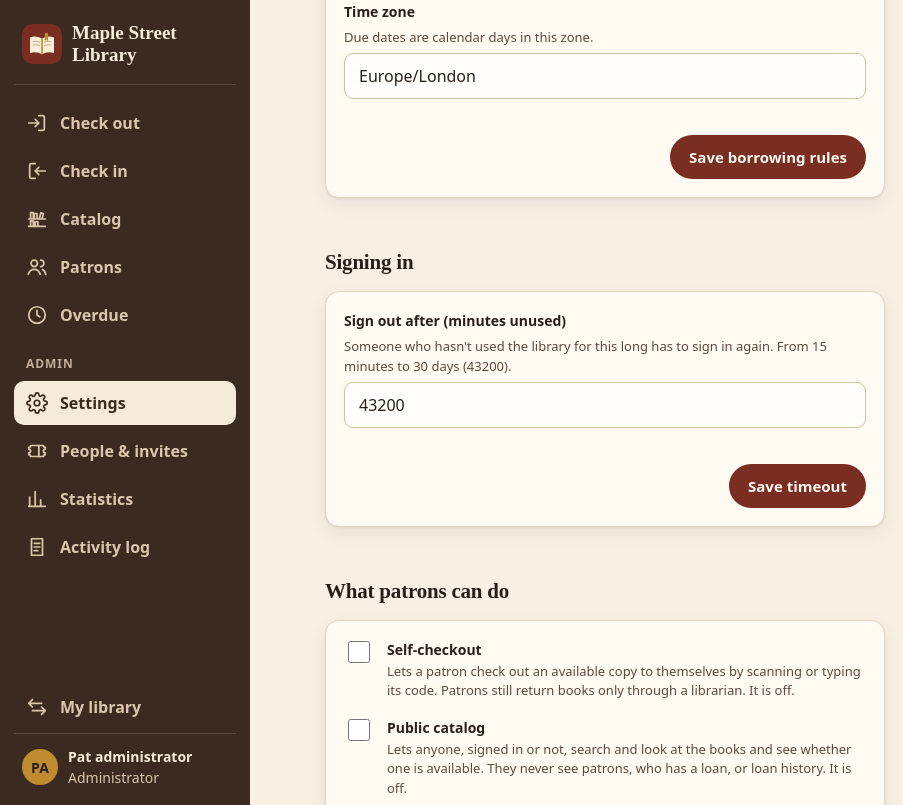
Test: Sign-in timeout › a refusal from the server is said under the field; a non-number is said before sending
(page scrolled)
Replace the text in the field labelled "Sign out after (minutes unused)" with "soon" at (605, 405), box [344,382,866,428]
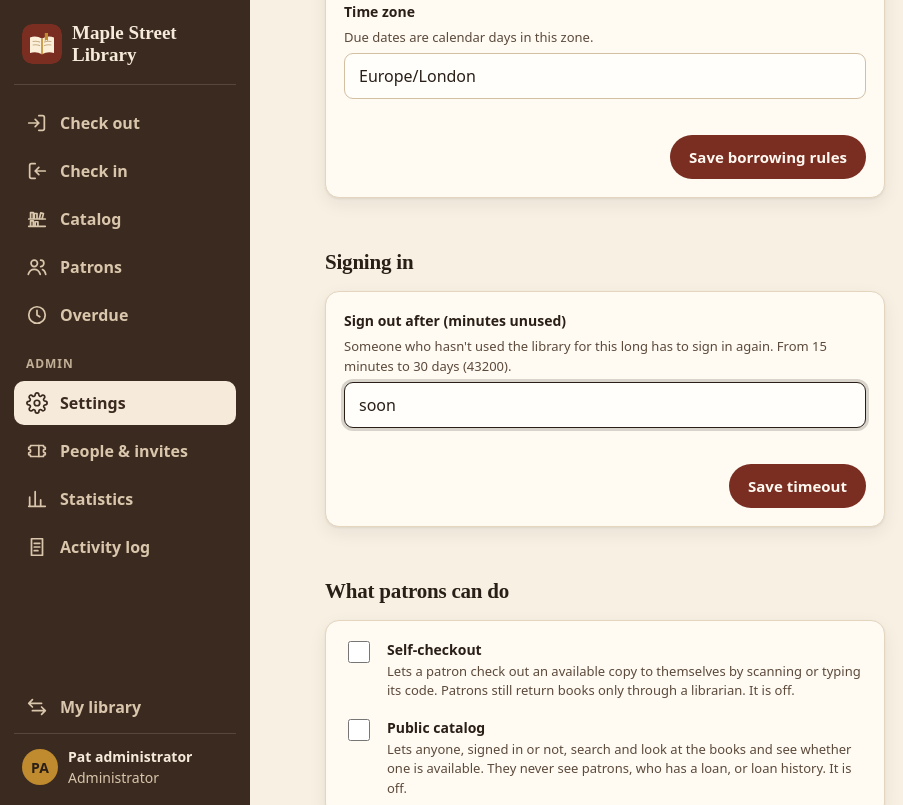
Click the button "Save timeout" at (798, 486), box [729,464,866,508]
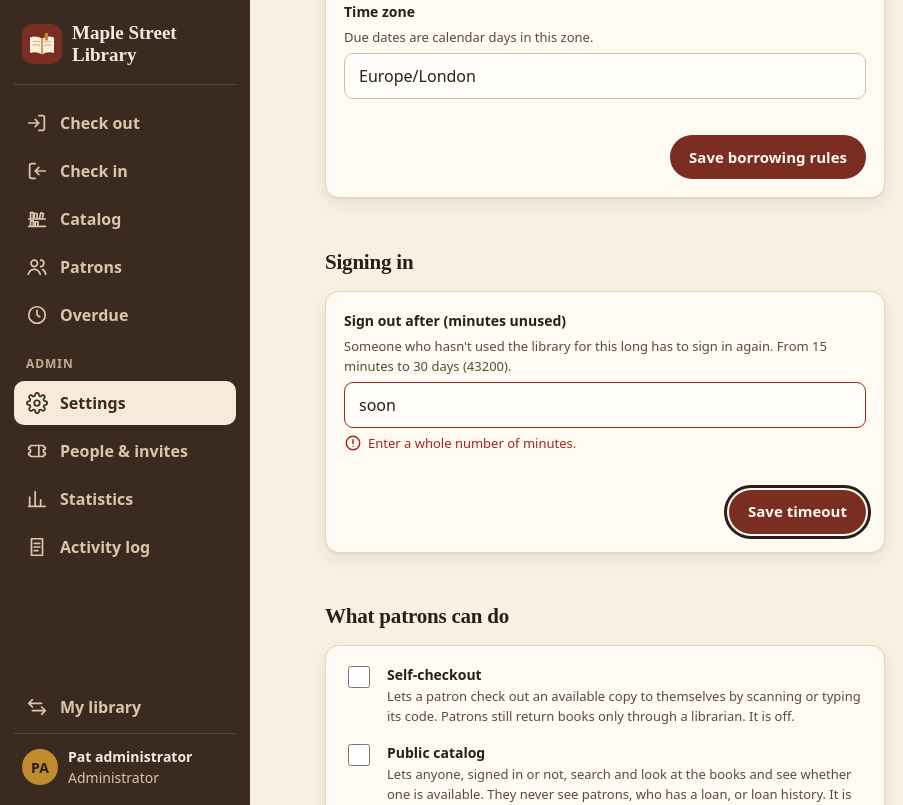
Now the text "Enter a whole number of minutes." is shown, box [344,434,576,452]
Replace the text in the field labelled "Sign out after (minutes unused)" with "5" at (605, 405), box [344,382,866,428]
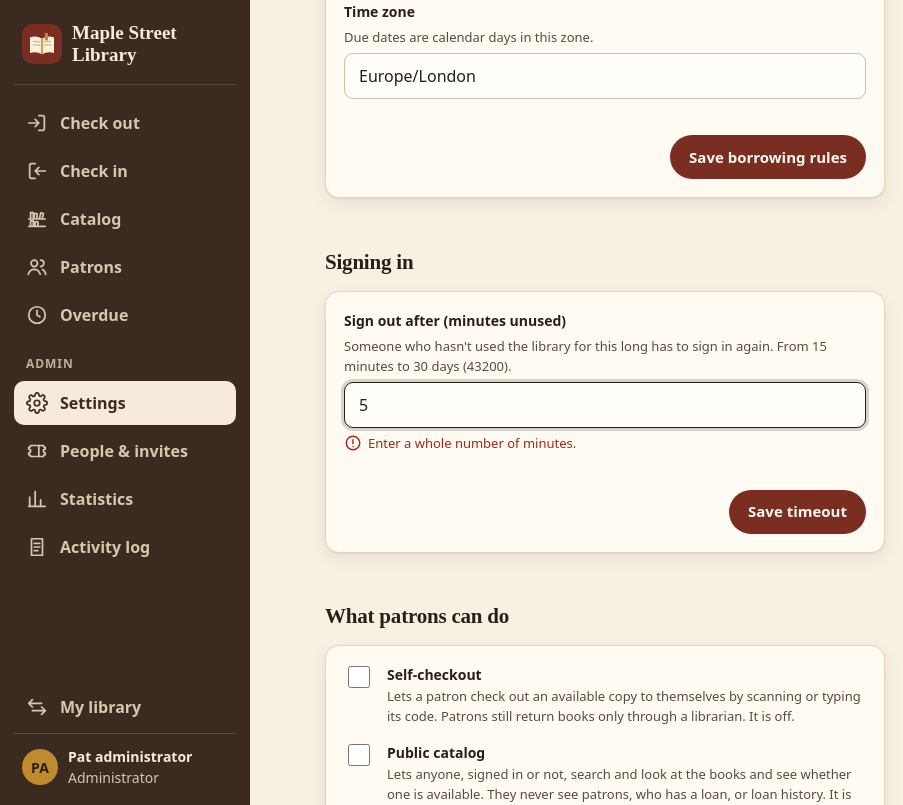
Click the button "Save timeout" at (798, 512), box [729,490,866,534]
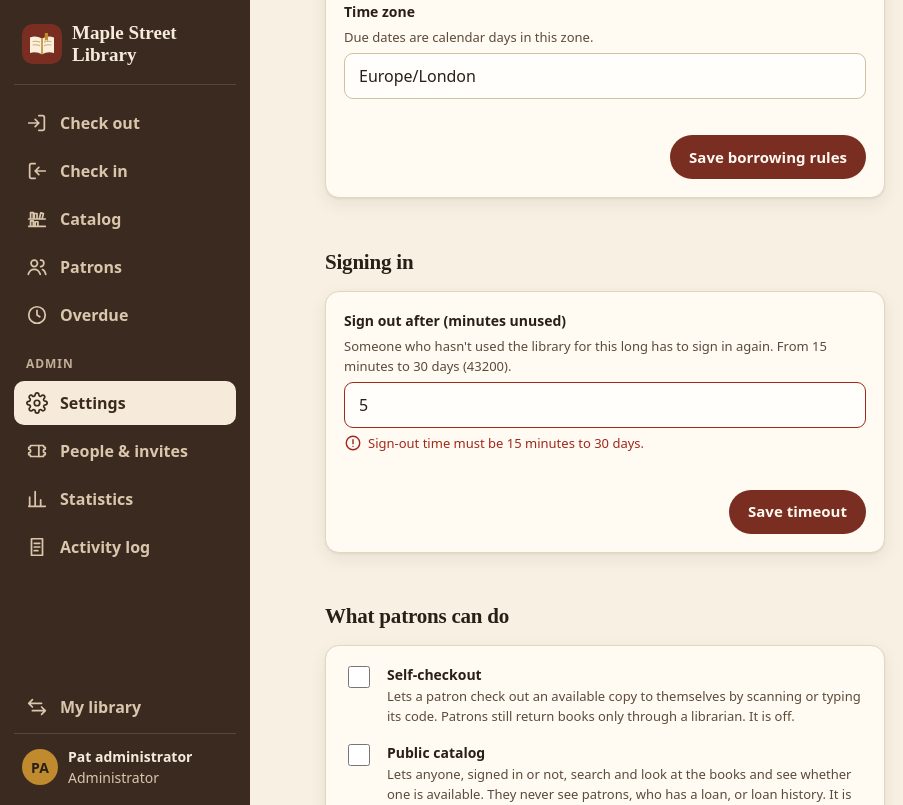
Now the text "Sign-out time must be 15 minutes to 30 days." is shown, box [344,434,644,452]
